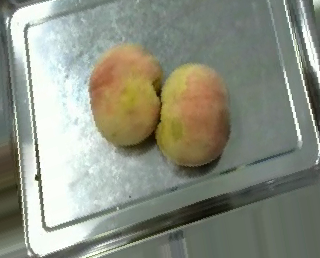Peach: (156, 62, 231, 166), (89, 42, 161, 145)
